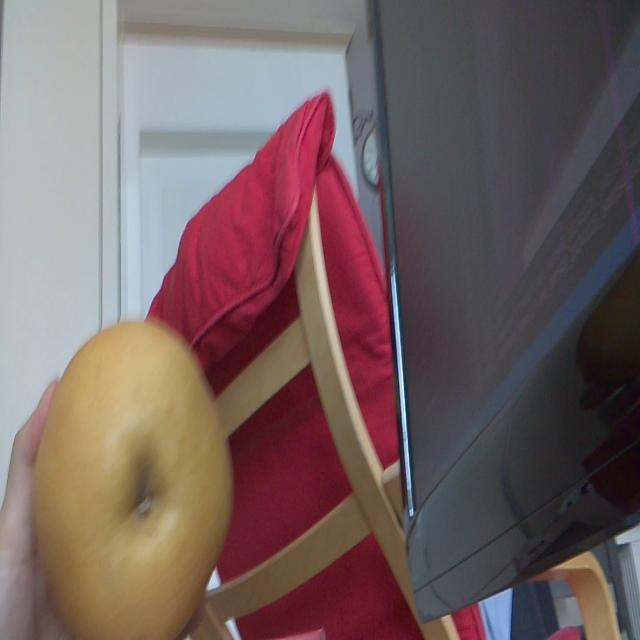pear: (35, 314, 235, 640)
